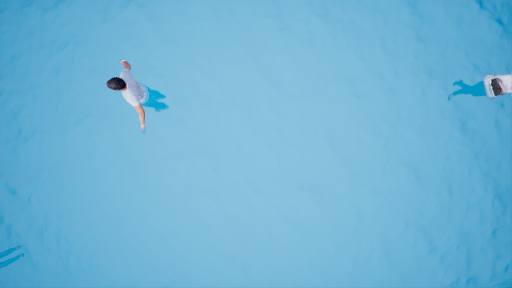person: (103, 58, 173, 133), (447, 70, 512, 103)
